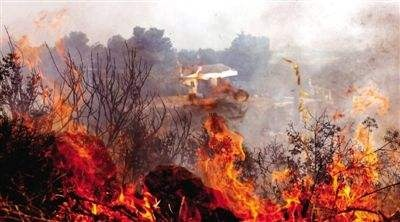fire: (13, 44, 393, 221)
